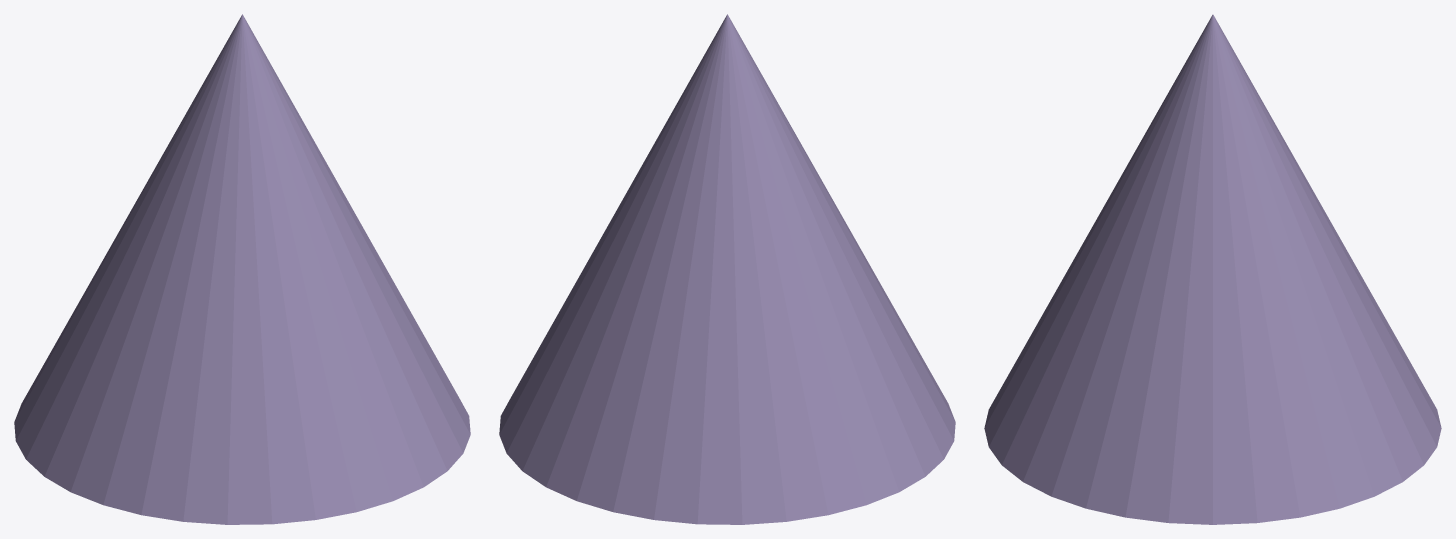
File: estacion3.glb
3 views of the same model, side by side, from view 1: azimuth 30°, elevation 25°; view 2: azimuth 150°, elevation 25°; view 3: azimuth 270°, elevation 25° (orthographic).
Visible parts, largest first — view 1: geometry_0; view 2: geometry_0; view 3: geometry_0.
Part boxes in pixels (bbox=[...]): geometry_0: bbox=[14, 14, 470, 524]; geometry_0: bbox=[499, 14, 955, 524]; geometry_0: bbox=[984, 14, 1441, 524].
Bounding box in the file's own units: 0.4 × 0.4 × 0.4.
